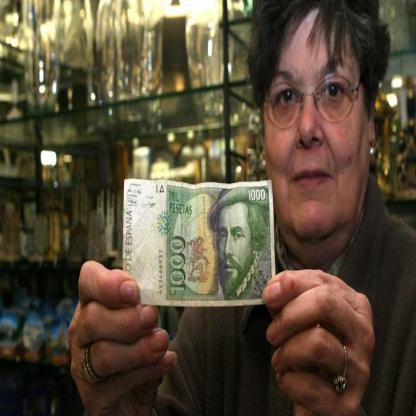billete: (122, 177, 276, 306)
